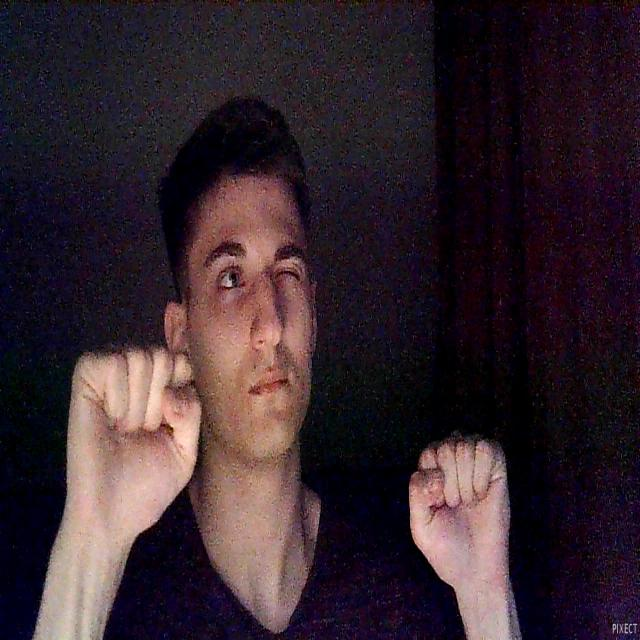Eyeclosed: (275, 262, 300, 284)
Eyeopen: (218, 264, 244, 294)
